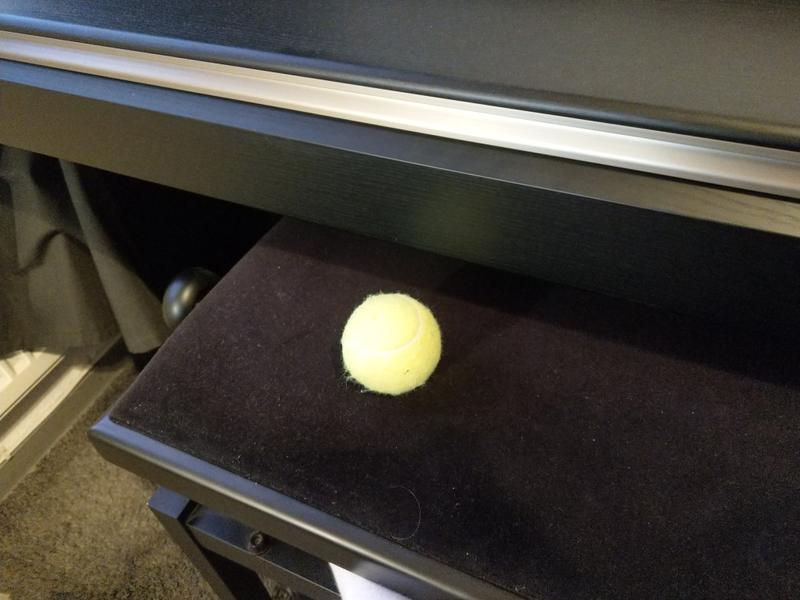Tennisball: (337, 291, 447, 399)
